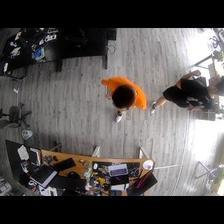normal: (149, 69, 224, 115), (100, 74, 149, 123)
